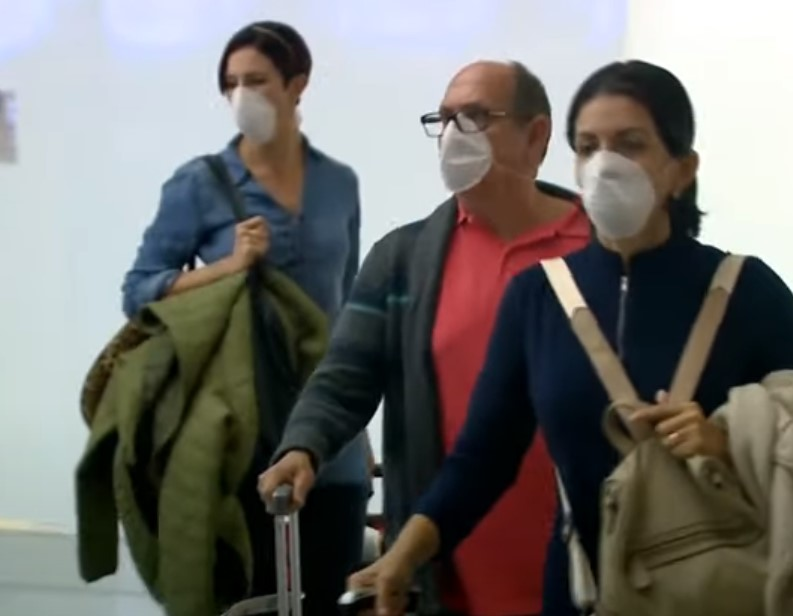face_with_mask: (567, 63, 698, 240), (417, 64, 549, 196), (223, 24, 307, 145)
